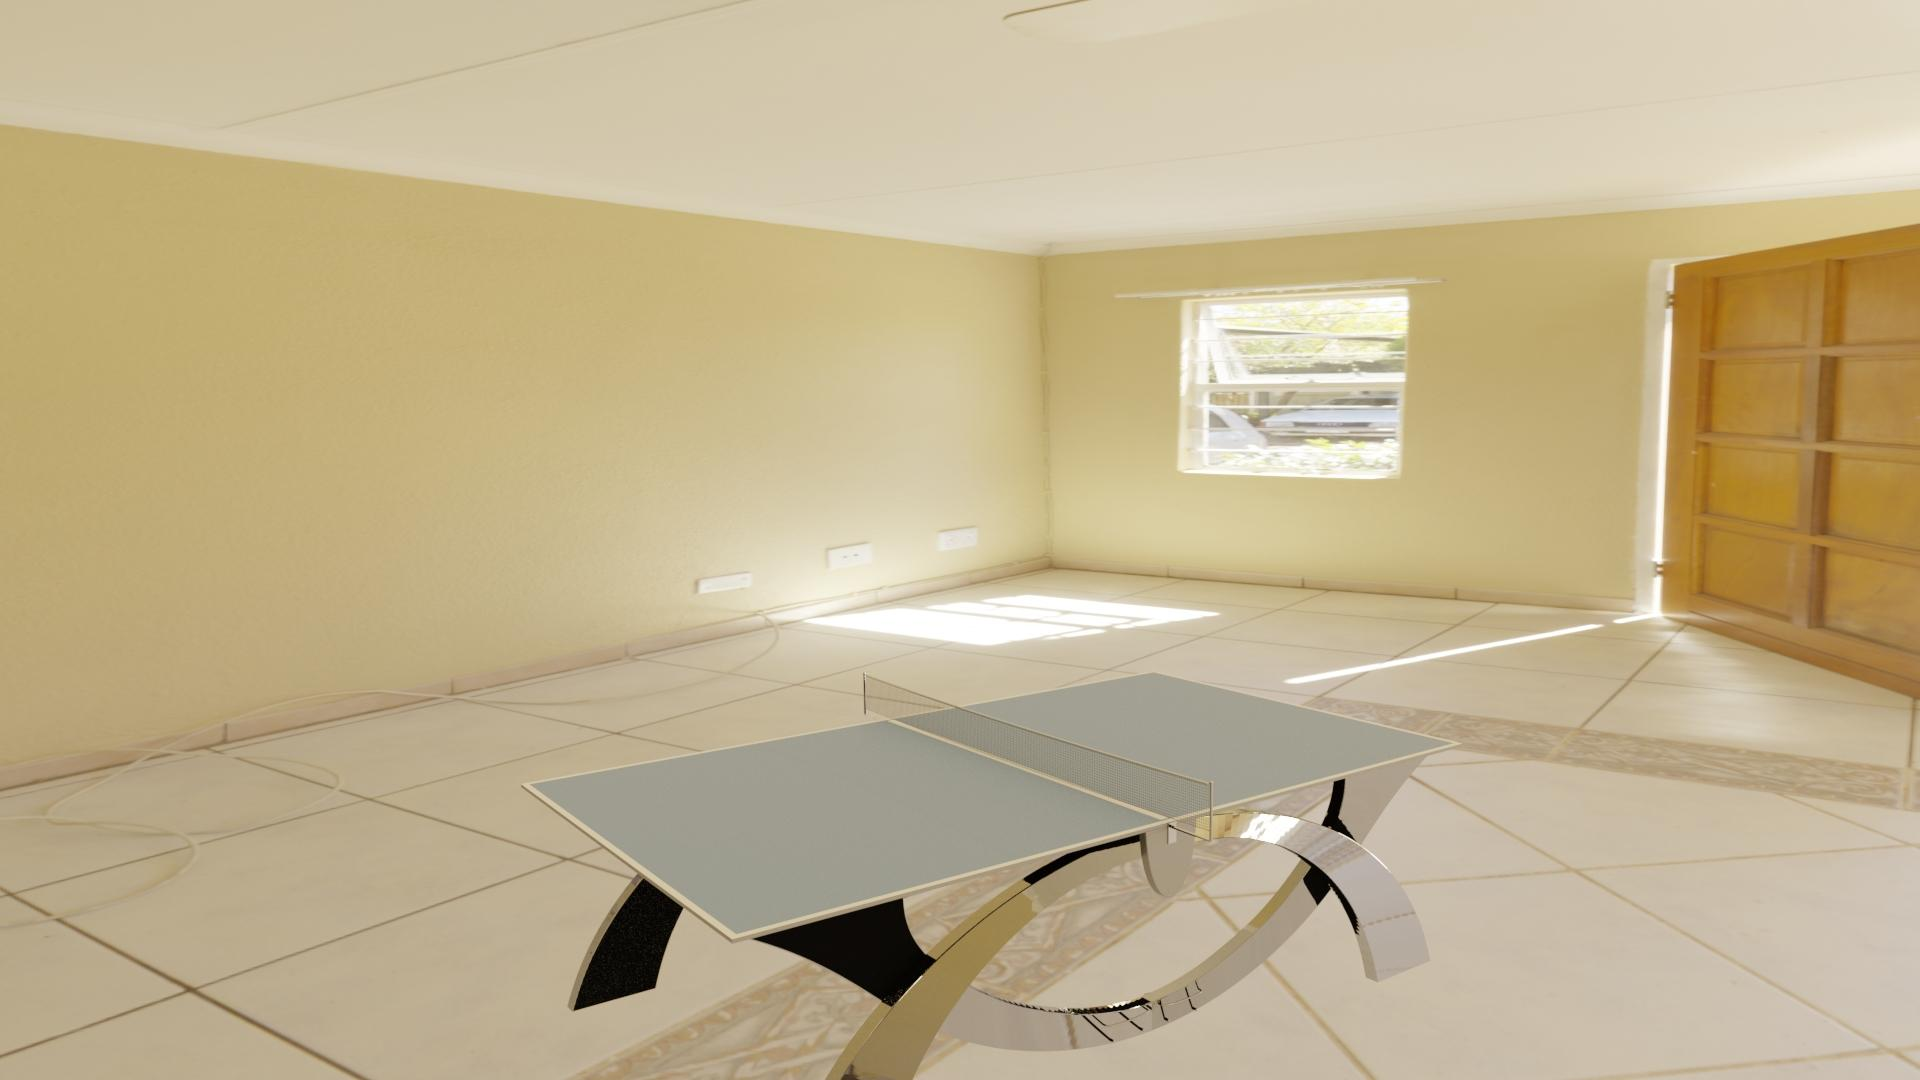table: (529, 673, 1455, 935)
